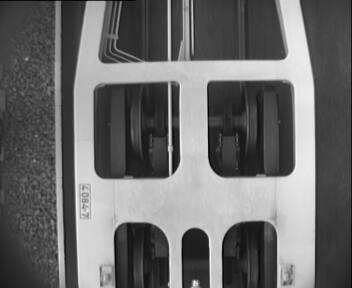Copy of wagon_scan: (100, 215, 288, 288)
